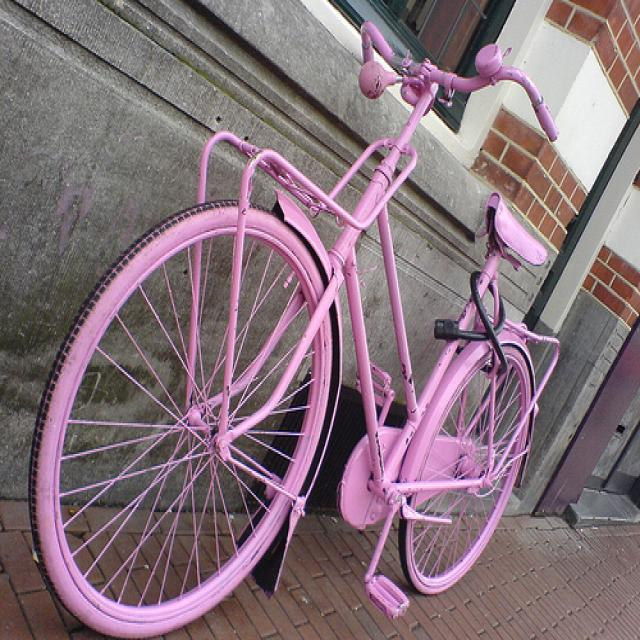bicycle: (25, 18, 562, 639)
